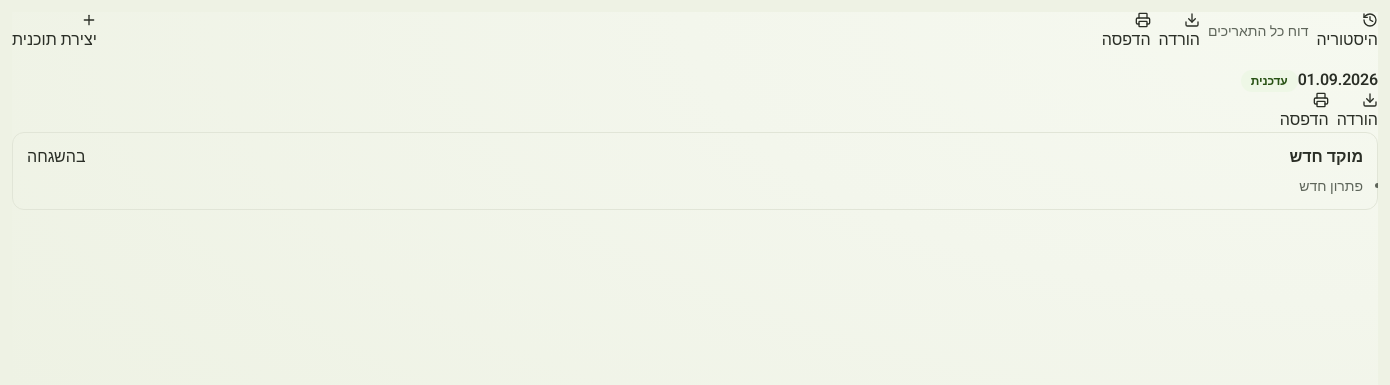
it: PersonalPlanTab › shows the latest plan and reveals history on demand
expect the text "מוקד חדש" is shown: met, box [1289,145,1363,169]
expect the text "מוקד ישן" is not shown: met
Click the button "היסטוריה". click: [1347, 32]
box: [1316,12,1378,52]
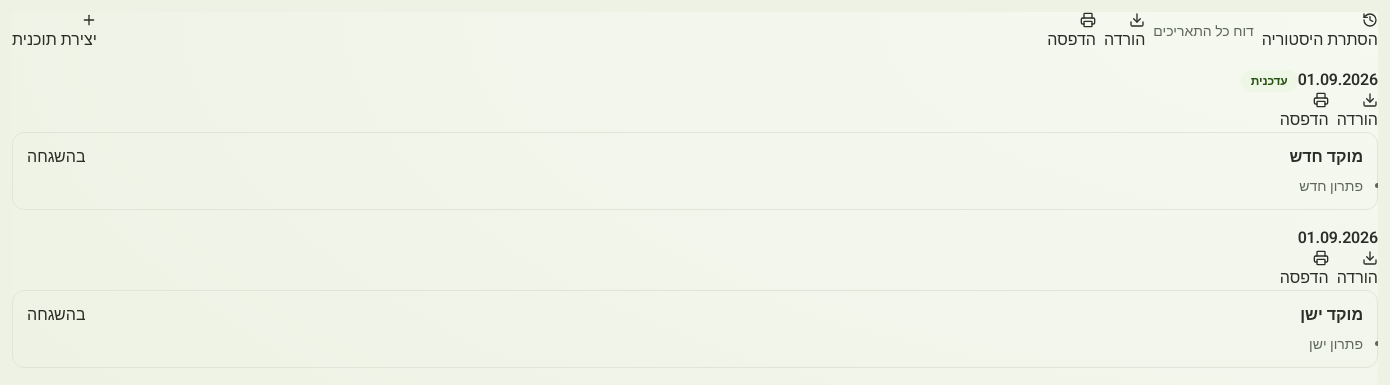
expect the text "מוקד ישן" is shown: met, box [1300,303,1363,327]
